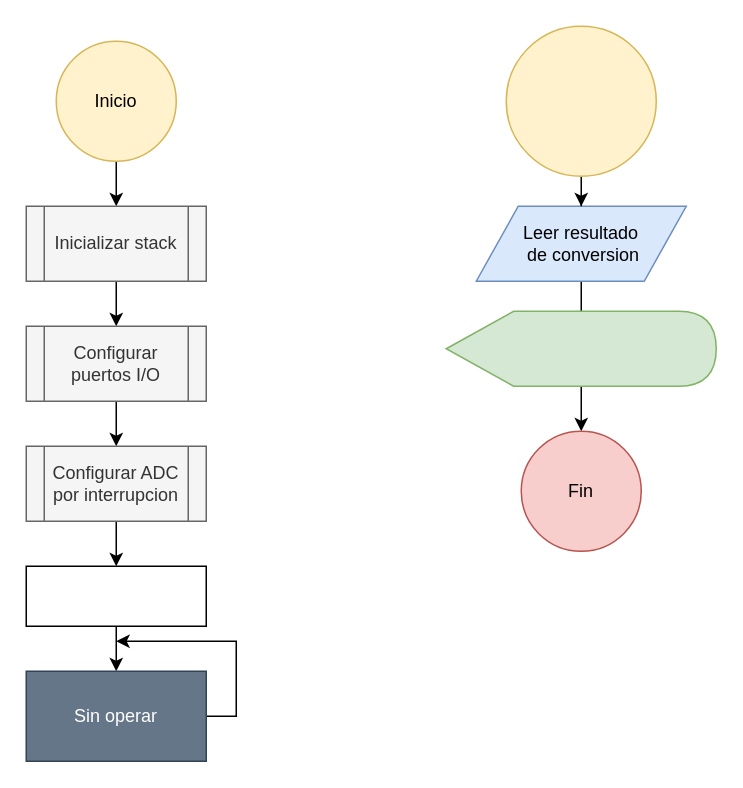
This 743x788 diagram has some shape labels left out. The shapes that lost their labels are listed below. From the top down, each one's centre as x and y in pixels, then its label:
the point at 580,100: Interrupcion fin de conversion
the point at 580,348: Mostrar resultado en LEDs
the point at 115,595: Iniciar conversion
